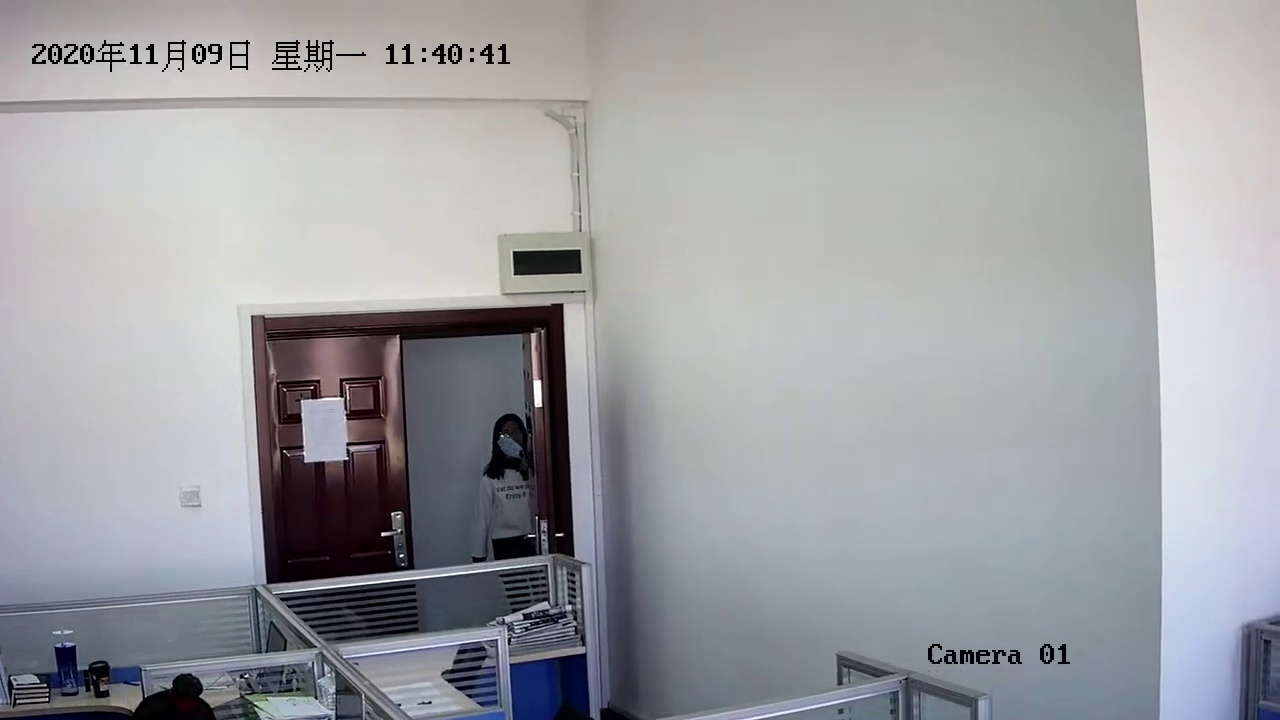mask: (484, 405, 536, 471)
